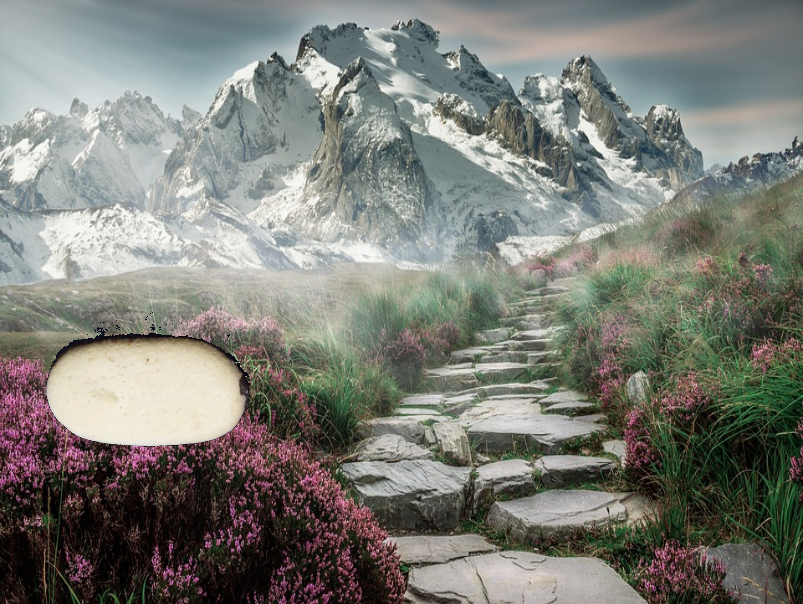test: (21, 253, 281, 512)
